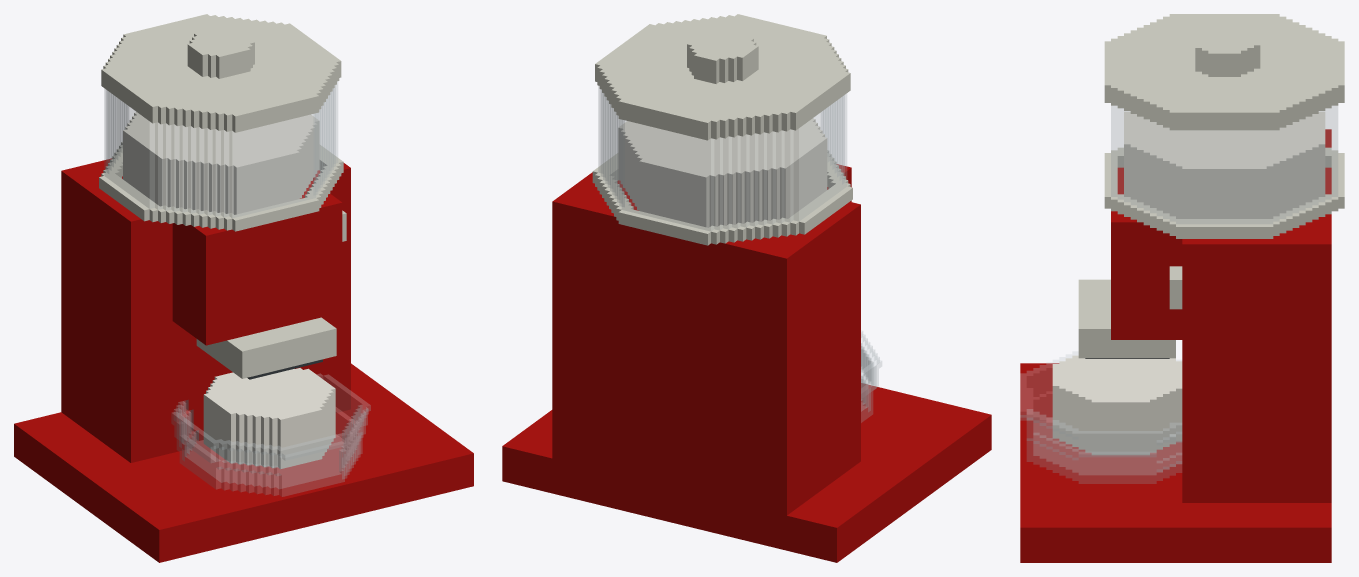
Rendered from snow_machine_home.glb.
3 views of the same model, side by side, from view 1: azimuth 30°, elevation 25°; view 2: azimuth 150°, elevation 25°; view 3: azimuth 270°, elevation 25° (orthographic). The views are drawn at different scales.
Parts seen in each view (by area): view 1: snow_machine_home:compound; view 2: snow_machine_home:compound; view 3: snow_machine_home:compound.
Part boxes in pixels (left/top/right/bottom): snow_machine_home:compound: left=14, top=14, right=473, bottom=562; snow_machine_home:compound: left=502, top=14, right=991, bottom=562; snow_machine_home:compound: left=1020, top=14, right=1344, bottom=562.
Bounding box in the file's own units: 0.24 × 0.3 × 0.2.
